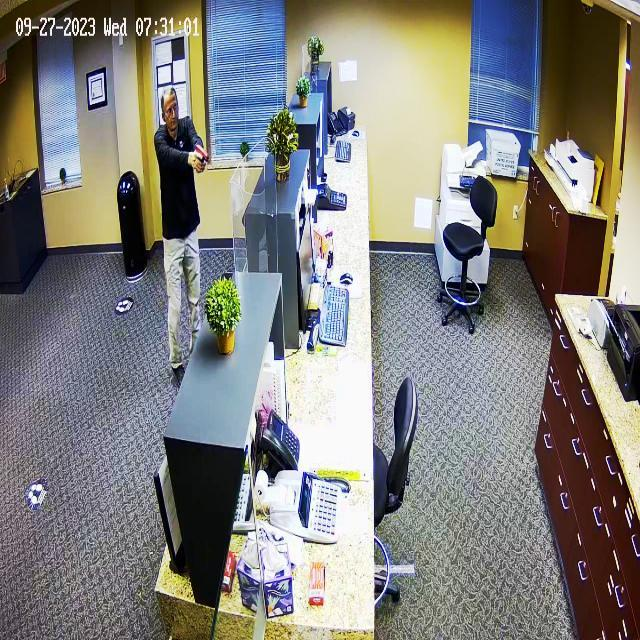Gun: (188, 142, 214, 176)
